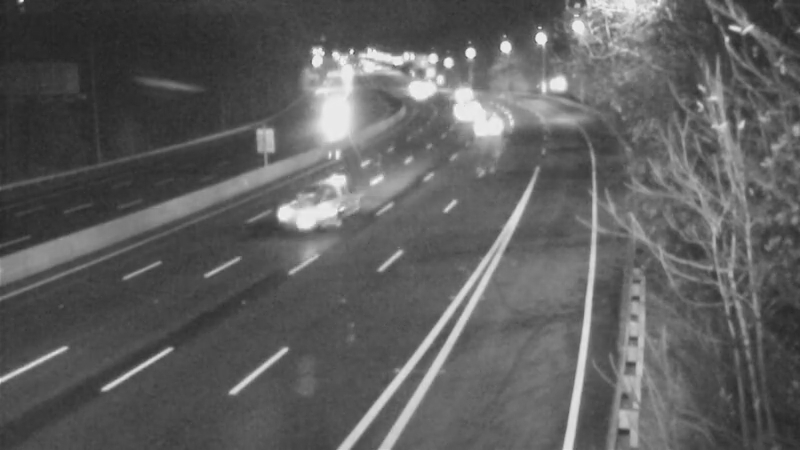vehicle: (265, 166, 345, 246), (435, 67, 485, 117), (441, 81, 491, 131), (457, 103, 507, 153), (305, 103, 355, 153)
